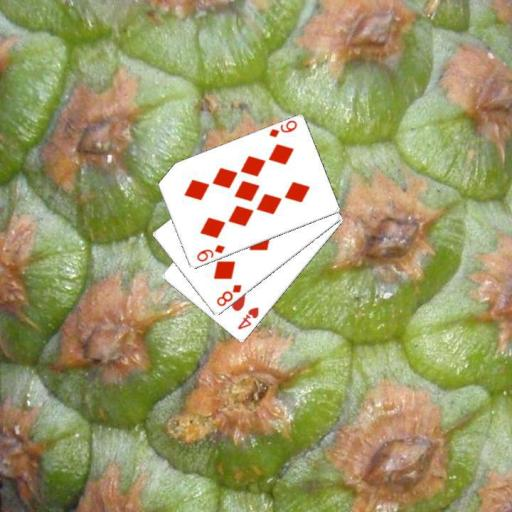4H: (234, 305, 260, 332)
8D: (214, 282, 244, 309)
9D: (266, 118, 299, 140), (194, 242, 226, 264)
